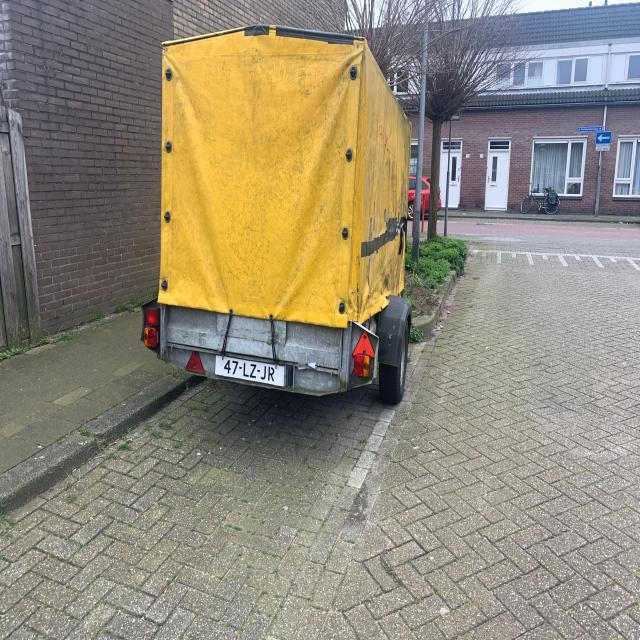plate: (214, 353, 286, 388)
